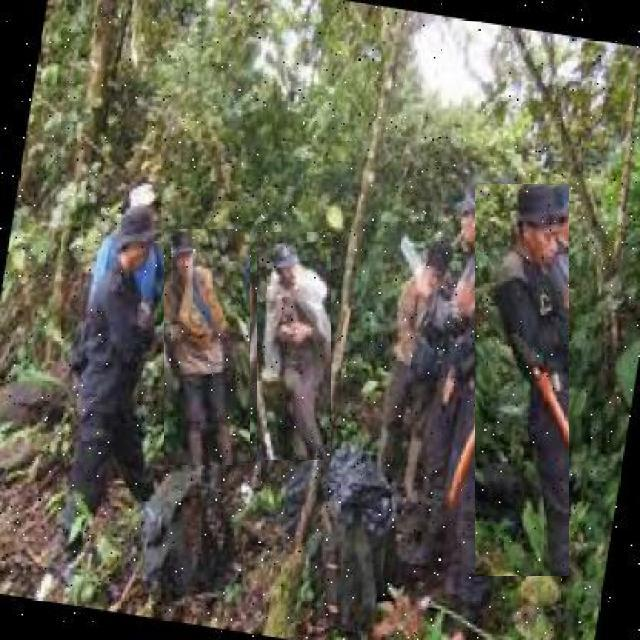poacher: (52, 206, 172, 519), (476, 184, 570, 576), (364, 230, 458, 462), (164, 229, 250, 465), (257, 232, 331, 460)
